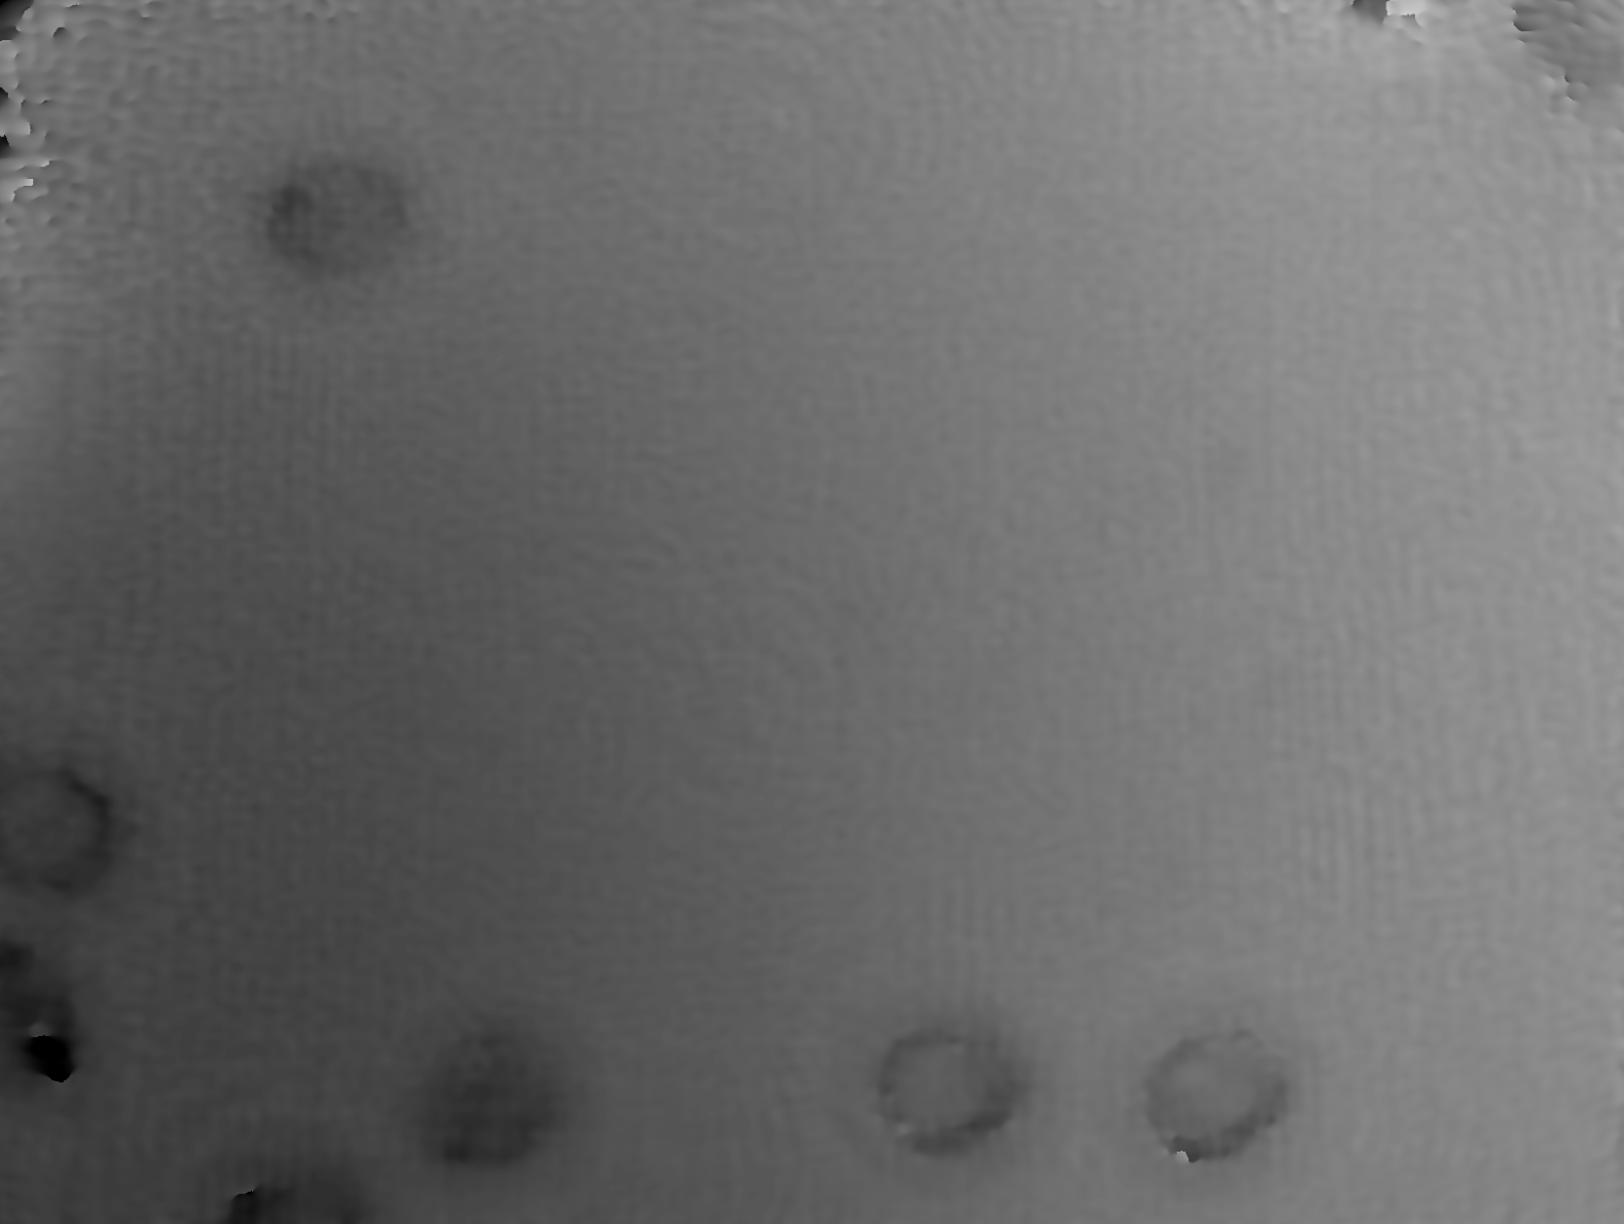cell: (360, 993, 639, 1219), (823, 975, 1072, 1210), (1094, 987, 1337, 1218), (222, 116, 471, 334), (1, 696, 174, 954)
